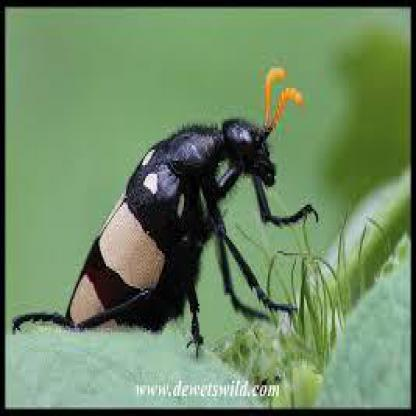blister beetle: (14, 68, 313, 348)
